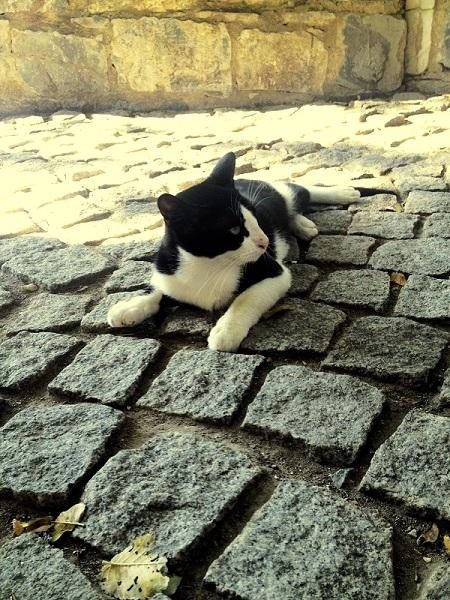cat: (105, 151, 361, 353)
